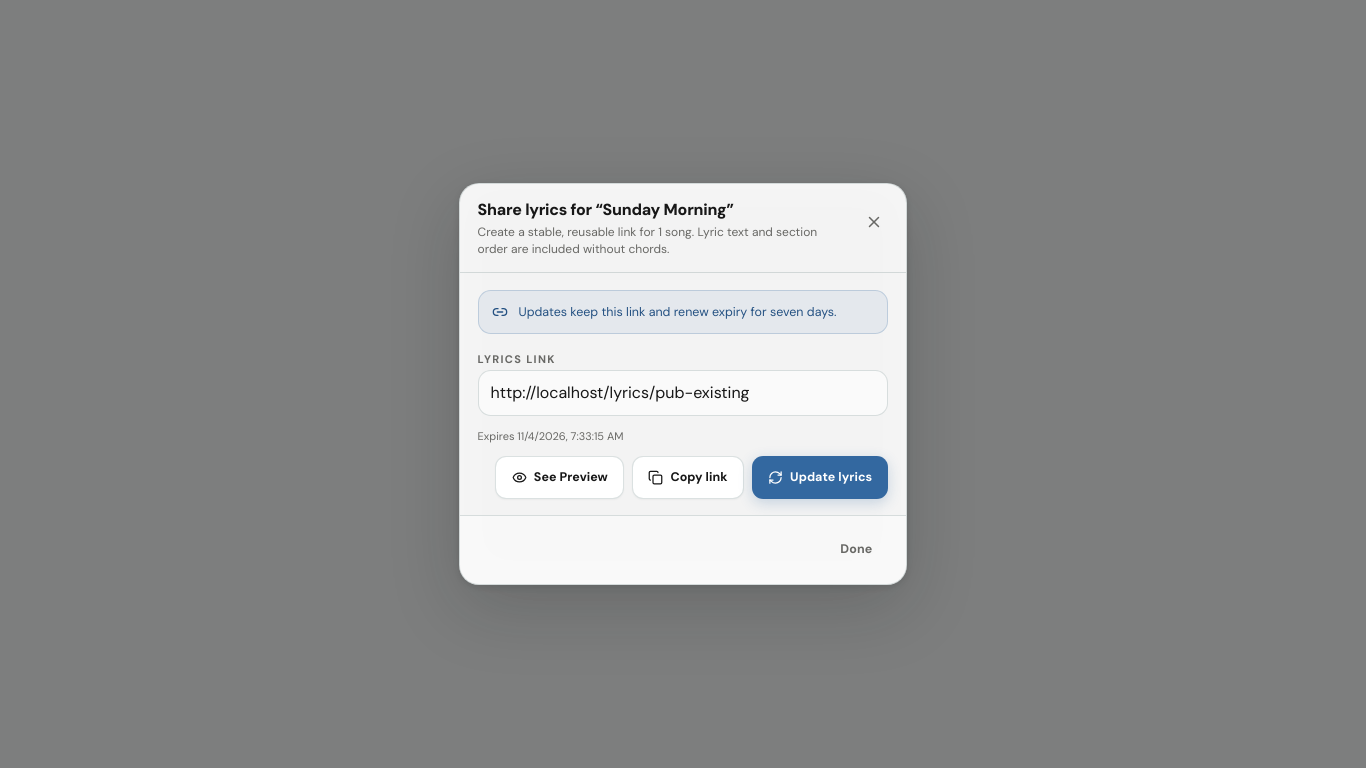
Test: ShareLyricsModal › restores existing publication on opening and preserves link on failed update
Expected: the button "Copy link" is shown, [632,456,744,499]
Click the button "Update lyrics" at (820, 478), box [752,456,888,499]
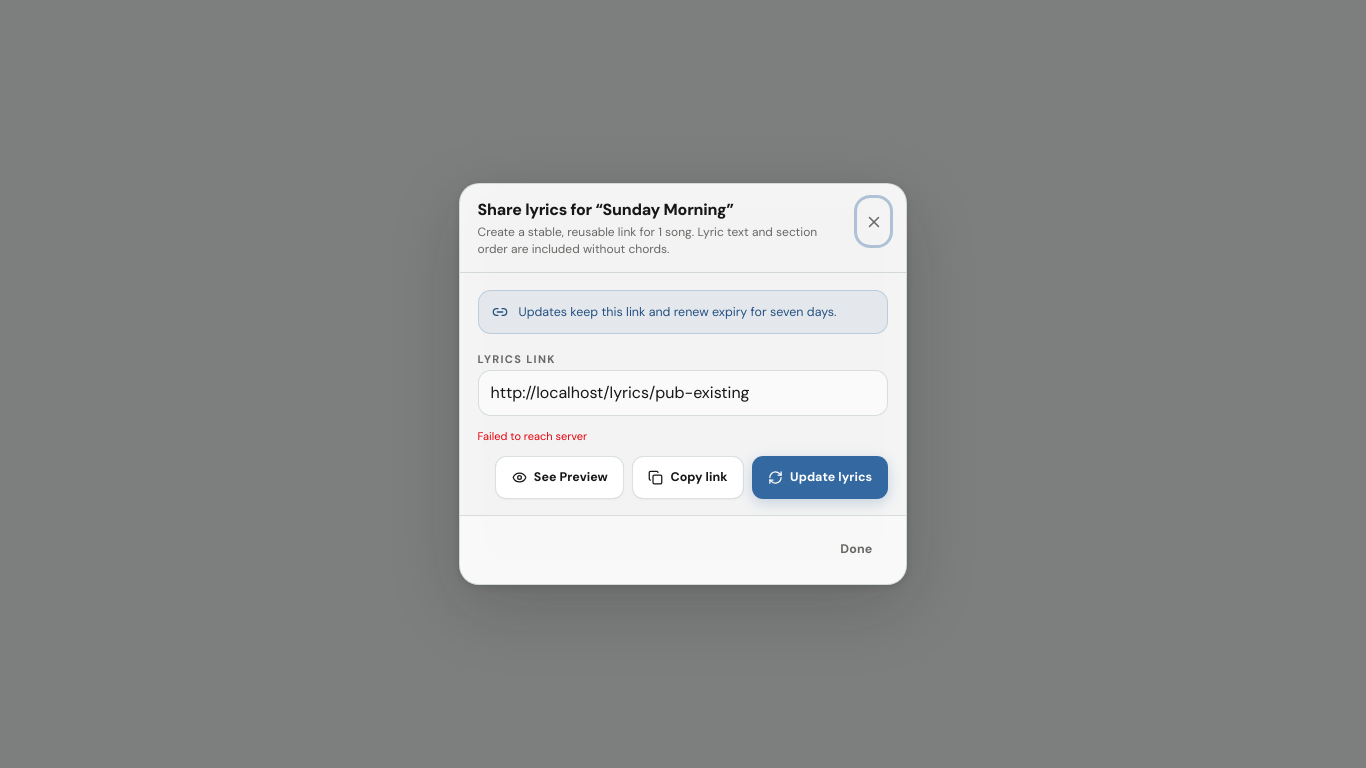
Expected: the button "Copy link" is shown, [632,456,744,499]
Now the text "Failed to reach server" is shown, box [478,429,587,443]
